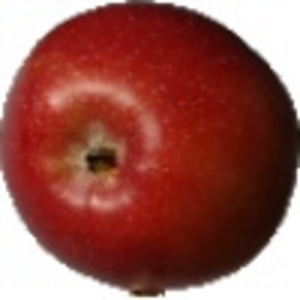maçã braeburn: (1, 1, 289, 289)
